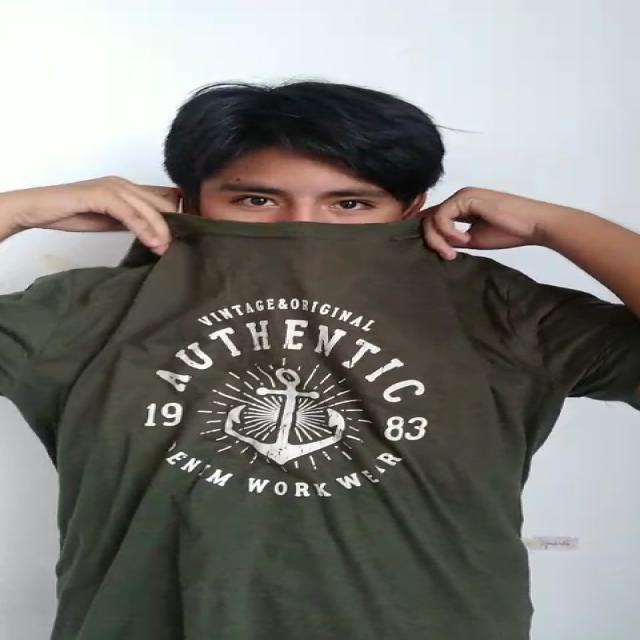8_ropa_rostro: (100, 202, 527, 322)
